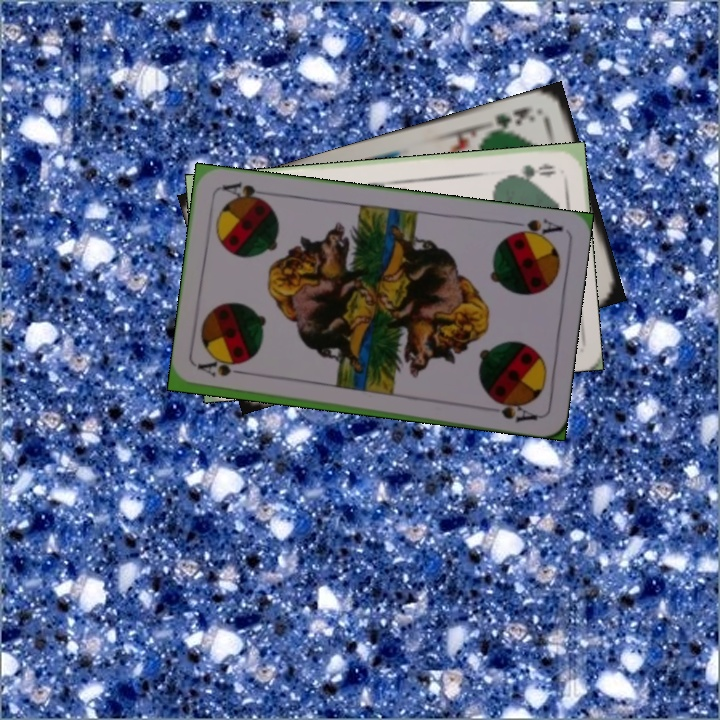GK: (487, 103, 538, 136)
GO: (501, 159, 558, 181)
SA: (504, 214, 565, 242), (195, 359, 254, 379)
